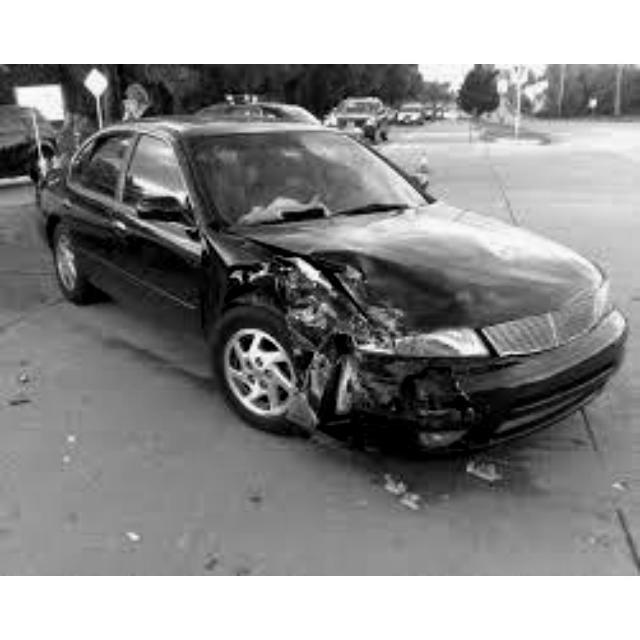bonnet-dent: (304, 226, 556, 317)
fender-dent: (224, 253, 354, 334)
front-bumper-dent: (360, 362, 548, 456)
